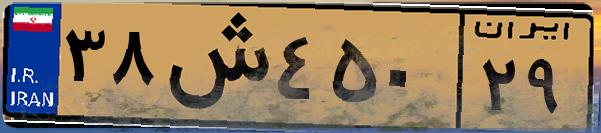0: (385, 28, 445, 110)
2: (475, 38, 525, 113)
3: (57, 26, 110, 100)
4: (270, 28, 330, 110)
5: (330, 28, 385, 110)
8: (110, 28, 158, 98)
9: (525, 38, 570, 115)
ش: (158, 12, 270, 120)
